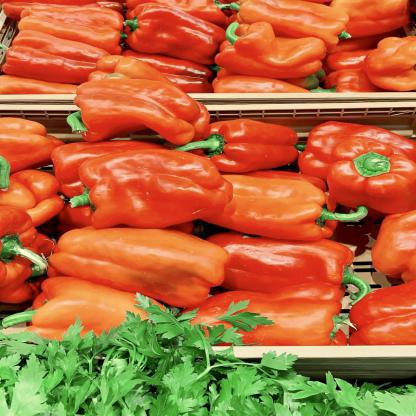capsicum: (39, 133, 271, 245)
